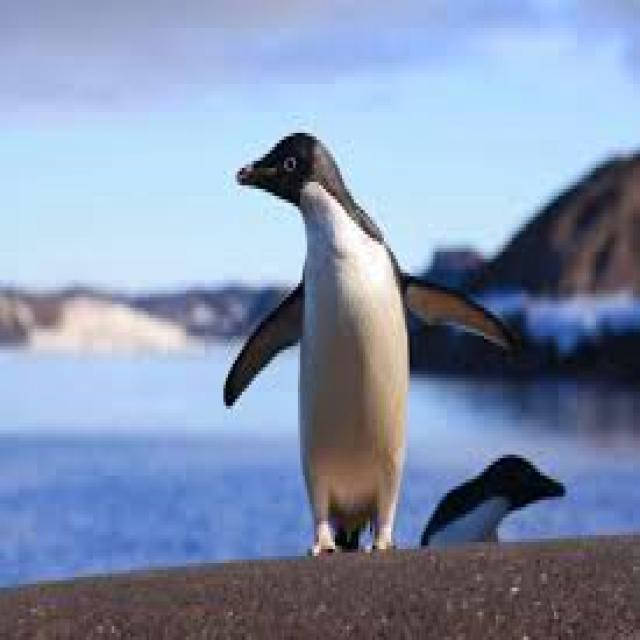penguin: (223, 133, 514, 553)
